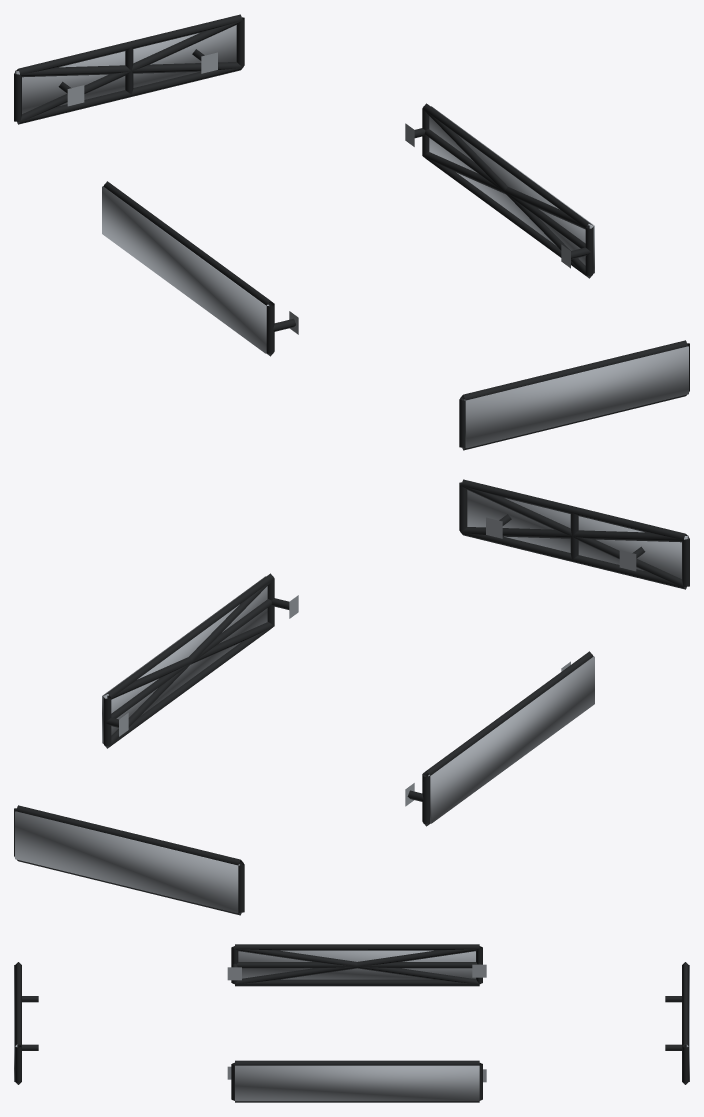
Rendered from vorhaus_marulho_protecao.glb.
3 views of the same model, one above another, from view 1: azimuth 30°, elevation 25°; view 2: azimuth 150°, elevation 25°; view 3: azimuth 270°, elevation 25° (orthographic). The views are drawn at different scales.
Visible parts, largest first — view 1: Protection_front_Level3_Details, Protection_left_Level3_Details, Protection_rear_Level1_Details, Protection_rear_Level3_Details, Protection_right_Level1_Details, Protection_right_Level2_Details, Protection_rear_Level2_Details, Protection_right_Level3_Details, Protection_front_Level1_Details, Protection_left_Level1_Details; view 2: Protection_rear_Level3_Details, Protection_left_Level3_Details, Protection_front_Level1_Details, Protection_front_Level3_Details, Protection_right_Level1_Details, Protection_right_Level2_Details, Protection_front_Level2_Details, Protection_right_Level3_Details, Protection_rear_Level1_Details, Protection_left_Level1_Details; view 3: Protection_right_Level3_Details, Protection_left_Level2_Details, Protection_left_Level1_Details, Protection_left_Level3_Details, Protection_right_Level1_Details, Protection_rear_Level1_Details, Protection_front_Level1_Details.
Boxes of the visible parts, x1=… form: Protection_front_Level3_Details: x1=464, y1=346, x2=688, y2=448; Protection_left_Level3_Details: x1=102, y1=186, x2=269, y2=353; Protection_rear_Level1_Details: x1=14, y1=14, x2=244, y2=124; Protection_rear_Level3_Details: x1=15, y1=25, x2=236, y2=113; Protection_right_Level1_Details: x1=405, y1=103, x2=593, y2=278; Protection_right_Level2_Details: x1=423, y1=109, x2=592, y2=278; Protection_rear_Level2_Details: x1=16, y1=20, x2=242, y2=123; Protection_right_Level3_Details: x1=429, y1=106, x2=594, y2=273; Protection_front_Level1_Details: x1=459, y1=340, x2=689, y2=450; Protection_left_Level1_Details: x1=103, y1=181, x2=298, y2=356; Protection_rear_Level3_Details: x1=15, y1=811, x2=239, y2=913; Protection_left_Level3_Details: x1=428, y1=656, x2=594, y2=823; Protection_front_Level1_Details: x1=459, y1=479, x2=689, y2=589; Protection_front_Level3_Details: x1=467, y1=490, x2=688, y2=578; Protection_right_Level1_Details: x1=103, y1=573, x2=298, y2=748; Protection_right_Level2_Details: x1=104, y1=579, x2=274, y2=748; Protection_front_Level2_Details: x1=461, y1=485, x2=687, y2=588; Protection_right_Level3_Details: x1=102, y1=576, x2=267, y2=743; Protection_rear_Level1_Details: x1=14, y1=805, x2=244, y2=915; Protection_left_Level1_Details: x1=405, y1=651, x2=593, y2=826; Protection_right_Level3_Details: x1=235, y1=1065, x2=479, y2=1101; Protection_left_Level2_Details: x1=234, y1=947, x2=478, y2=984; Protection_left_Level1_Details: x1=227, y1=944, x2=486, y2=986; Protection_left_Level3_Details: x1=238, y1=950, x2=475, y2=979; Protection_right_Level1_Details: x1=227, y1=1060, x2=486, y2=1102; Protection_rear_Level1_Details: x1=665, y1=962, x2=688, y2=1084; Protection_front_Level1_Details: x1=15, y1=962, x2=38, y2=1084.
Size of the model in its own units: 2.18 by 0.354 by 5.17.
1 material, 1 textured.
